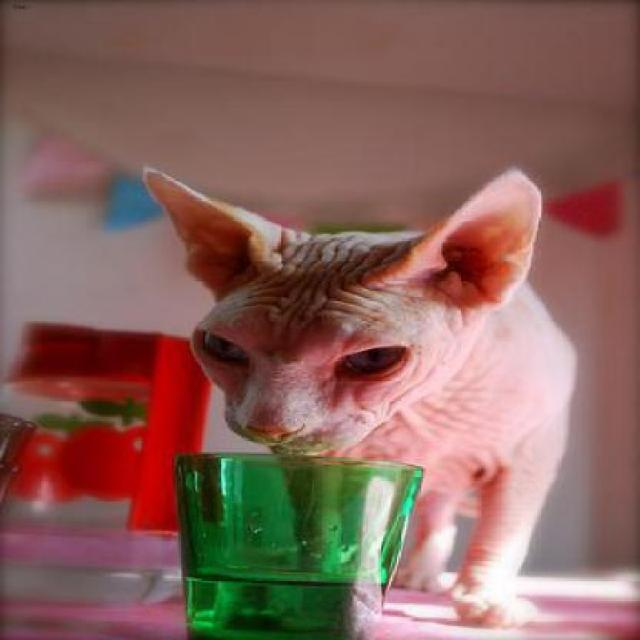cat: (144, 165, 579, 630)
